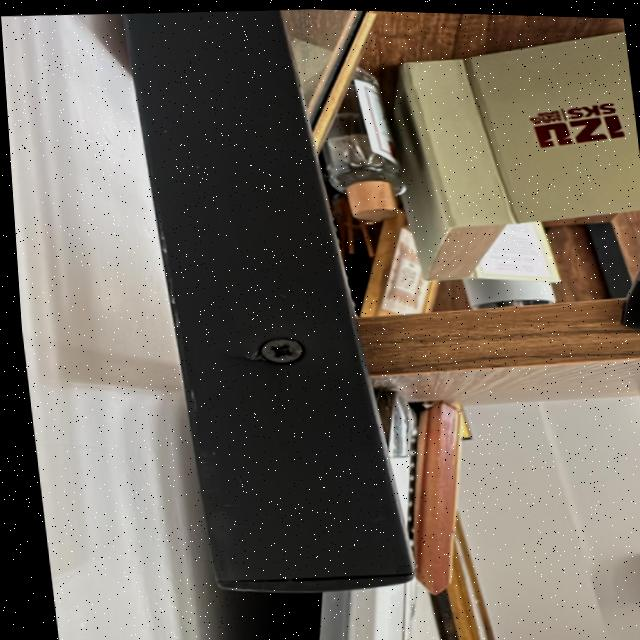Pozidriv: (252, 334, 315, 368)
